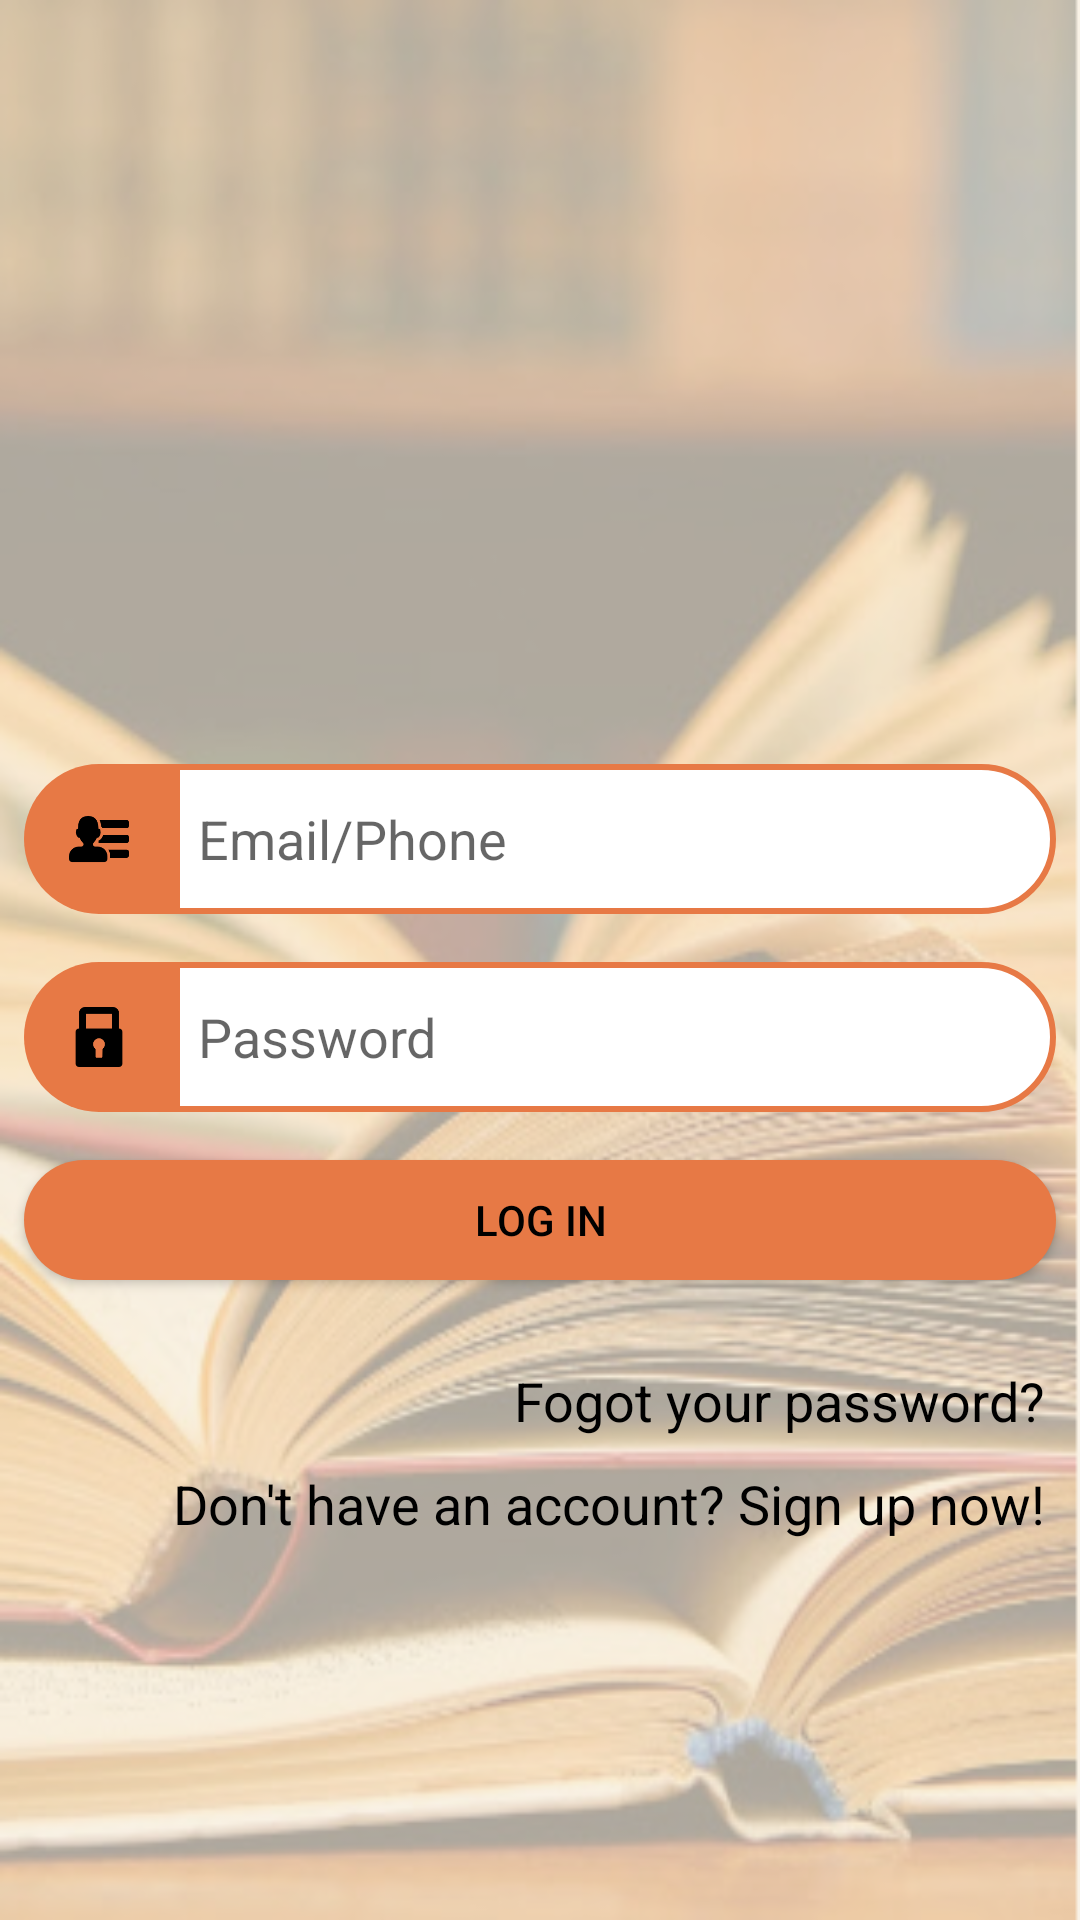

Icon click points for this 1080 × 1920 phone screenshot, format point (x, y):
username: point (99, 839)
